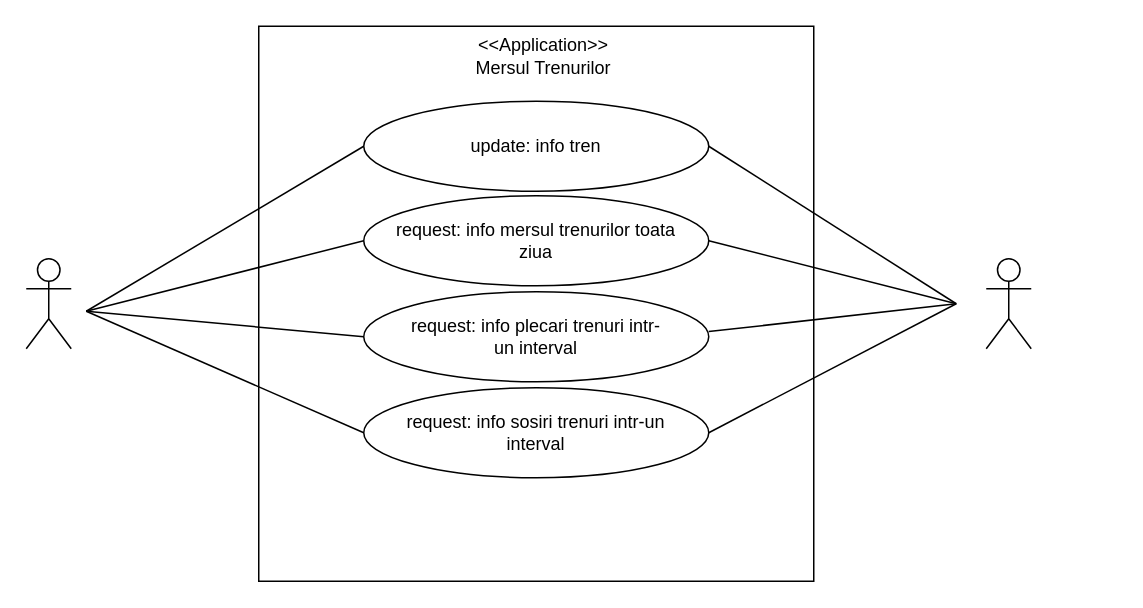
Some shapes in this 1143 by 608 pixel diagram are drawn without their labels. Here are the shapes that lost their labels. From the top down, the centre of each, then its label:
At (48,303): "User".
At (1008,303): "Mersul Trenurilor Database".
